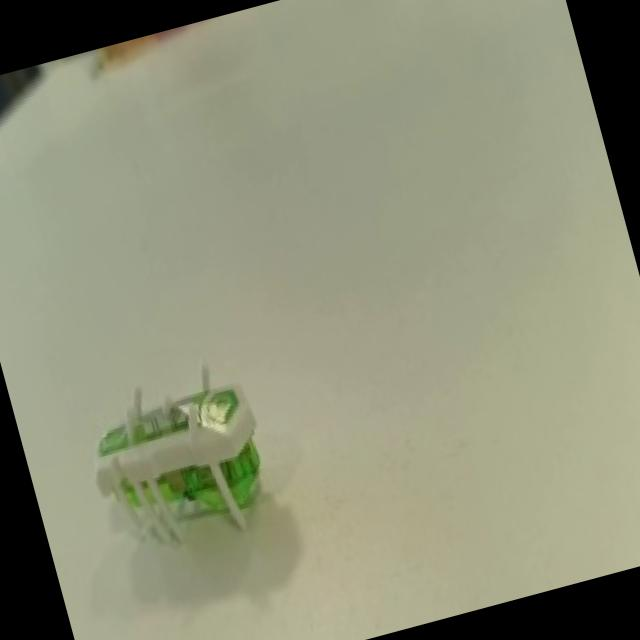4_NanoBug_Blanco: (41, 320, 308, 596)
